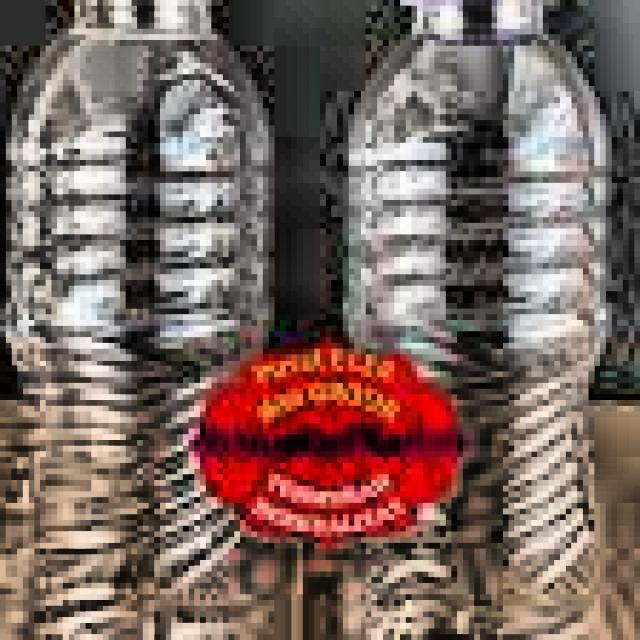plastic: (0, 0, 297, 640), (343, 0, 640, 640)
